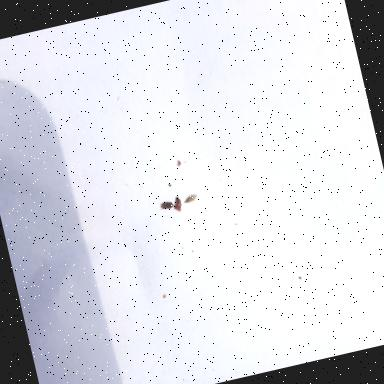pbw: (183, 193, 199, 204), (160, 200, 174, 211)
